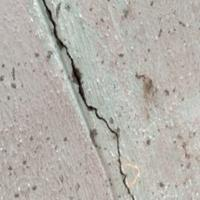crack: (40, 0, 142, 199)
